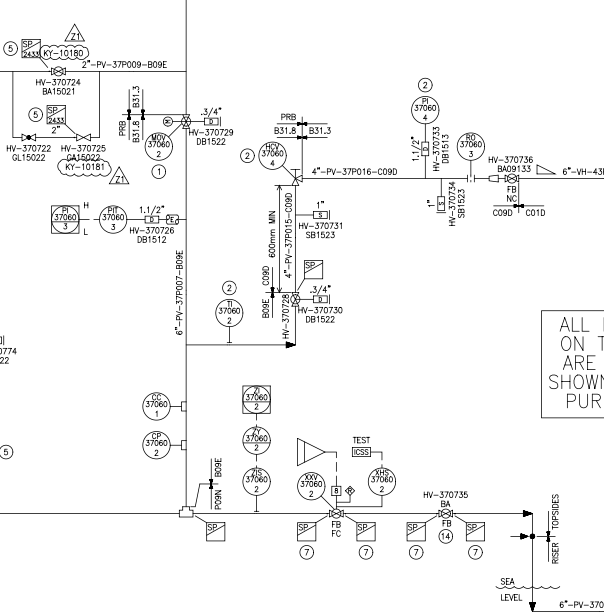Instrument: (140, 427, 174, 463), (211, 296, 248, 328), (240, 424, 274, 458), (240, 464, 273, 499), (455, 128, 488, 162), (139, 390, 175, 421), (144, 129, 175, 163), (256, 139, 288, 171), (296, 470, 327, 503), (97, 202, 128, 235), (408, 95, 442, 124), (367, 465, 397, 497)
Instrument-square: (235, 380, 279, 419), (49, 200, 81, 235)
